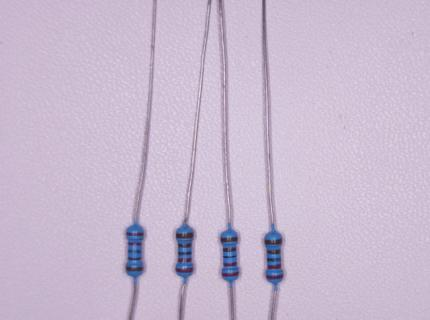Black band: (268, 258, 282, 262), (224, 255, 237, 259), (128, 250, 142, 253), (178, 252, 192, 255)
Brown band: (176, 232, 194, 239), (221, 236, 238, 243), (265, 238, 282, 244), (126, 267, 144, 271), (179, 243, 192, 248), (268, 250, 281, 255), (223, 248, 237, 252), (128, 257, 141, 260)
Red band: (176, 267, 193, 273), (267, 263, 282, 269), (267, 274, 284, 279), (126, 232, 144, 236), (222, 272, 239, 276), (224, 262, 237, 267), (128, 242, 142, 246), (179, 258, 191, 262)
